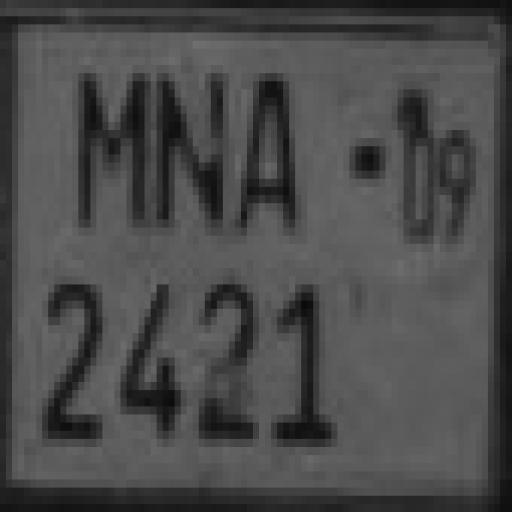1: (266, 264, 344, 470)
2: (194, 266, 260, 456), (42, 271, 108, 449)
4: (116, 268, 186, 446)
A: (237, 60, 311, 256)
M: (60, 63, 148, 235)
N: (155, 56, 229, 240)
